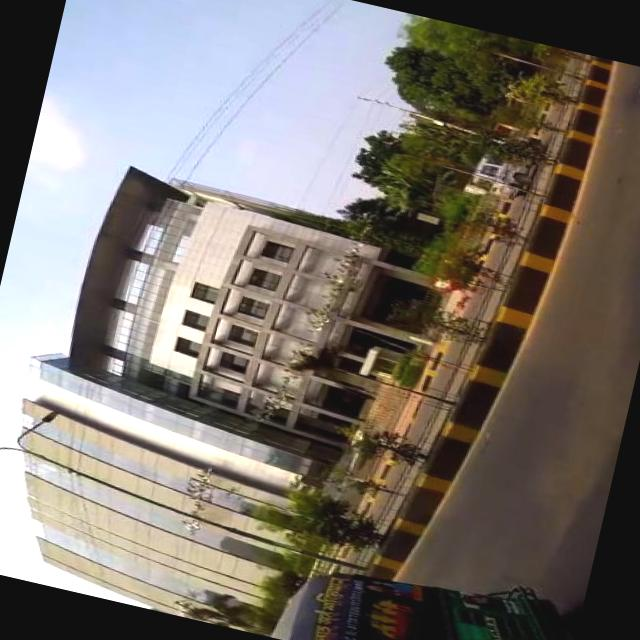motorcycle: (268, 535, 580, 640)
truck: (464, 124, 542, 203)
